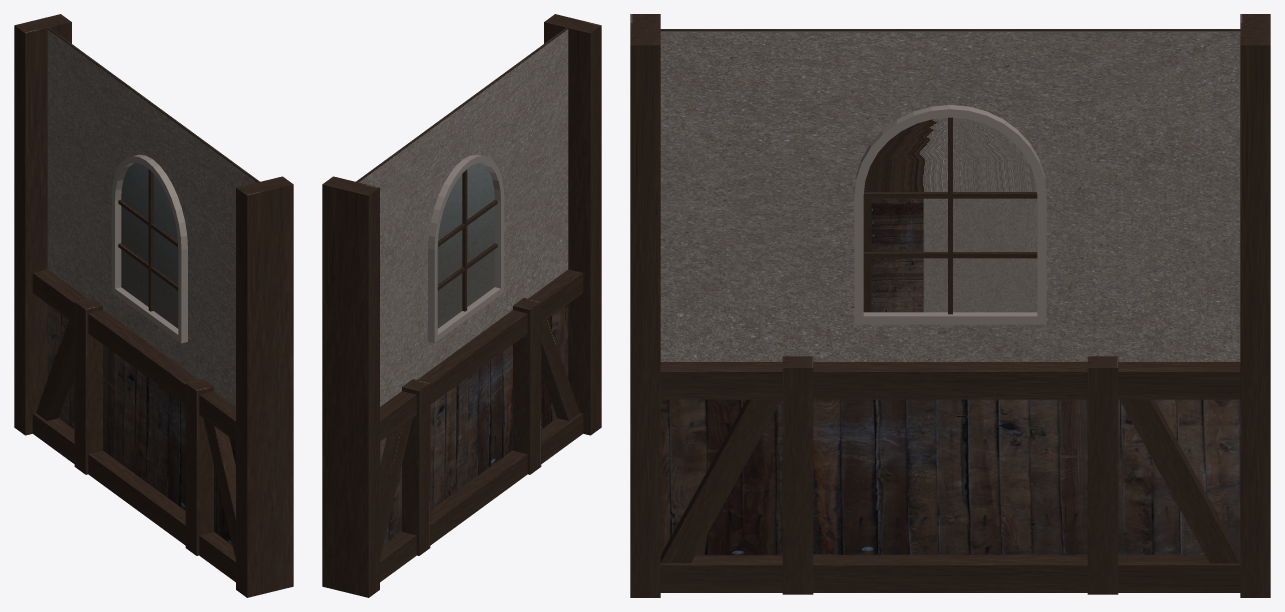
Rendered from OutdoorArchitecture_BasicWall04_Window01_BothEdges_BShortt.fbx.
The picture shows the model from 3 angles, left to right: view 1: azimuth 30°, elevation 25°; view 2: azimuth 150°, elevation 25°; view 3: azimuth 270°, elevation 25°; orthographic projection. The views are drawn at different scales.
Visible parts, largest first — view 1: OutdoorArchitecture_BasicWall04_Window01_BothEdges_BShortt; view 2: OutdoorArchitecture_BasicWall04_Window01_BothEdges_BShortt; view 3: OutdoorArchitecture_BasicWall04_Window01_BothEdges_BShortt.
Part boxes in pixels (<box>): OutdoorArchitecture_BasicWall04_Window01_BothEdges_BShortt: <box>14,14,293,597</box>; OutdoorArchitecture_BasicWall04_Window01_BothEdges_BShortt: <box>322,14,601,597</box>; OutdoorArchitecture_BasicWall04_Window01_BothEdges_BShortt: <box>630,14,1270,597</box>.
Size of the model in its own units: 36.37 by 300 by 315.
